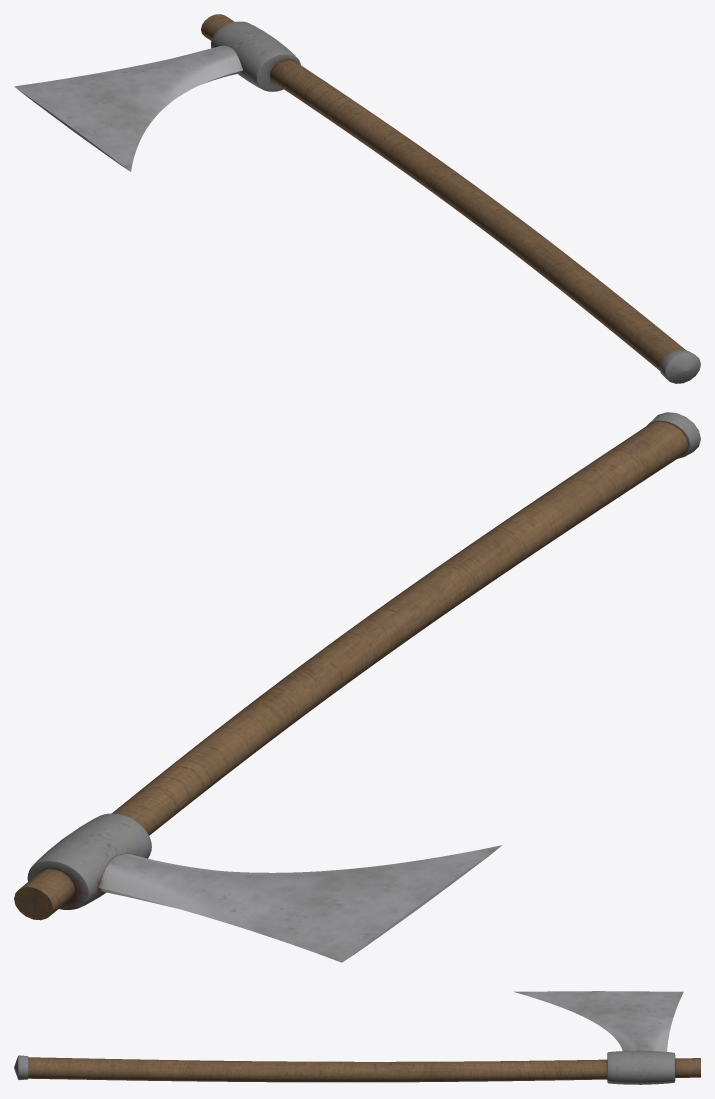
The model's file is bearded_axe.glb.
3 views of the same model, one above another, from view 1: azimuth 30°, elevation 25°; view 2: azimuth 150°, elevation 25°; view 3: azimuth 270°, elevation 25° (orthographic). The views are drawn at different scales.
Visible parts, largest first — view 1: bearded_axe; view 2: bearded_axe; view 3: bearded_axe.
Part boxes in pixels (left/top/right/bottom): bearded_axe: left=14, top=14, right=700, bottom=383; bearded_axe: left=14, top=412, right=700, bottom=962; bearded_axe: left=14, top=991, right=700, bottom=1084.
Size of the model in its own units: 0.237 by 0.0378 by 0.805.
1 material, 1 textured.
